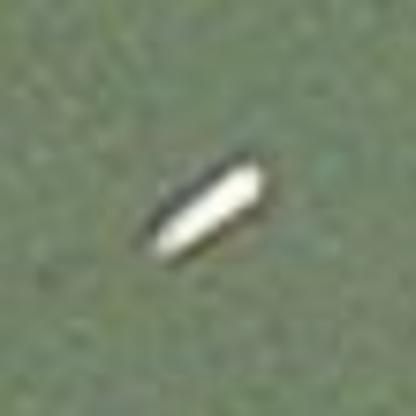ship: (127, 132, 277, 272)
